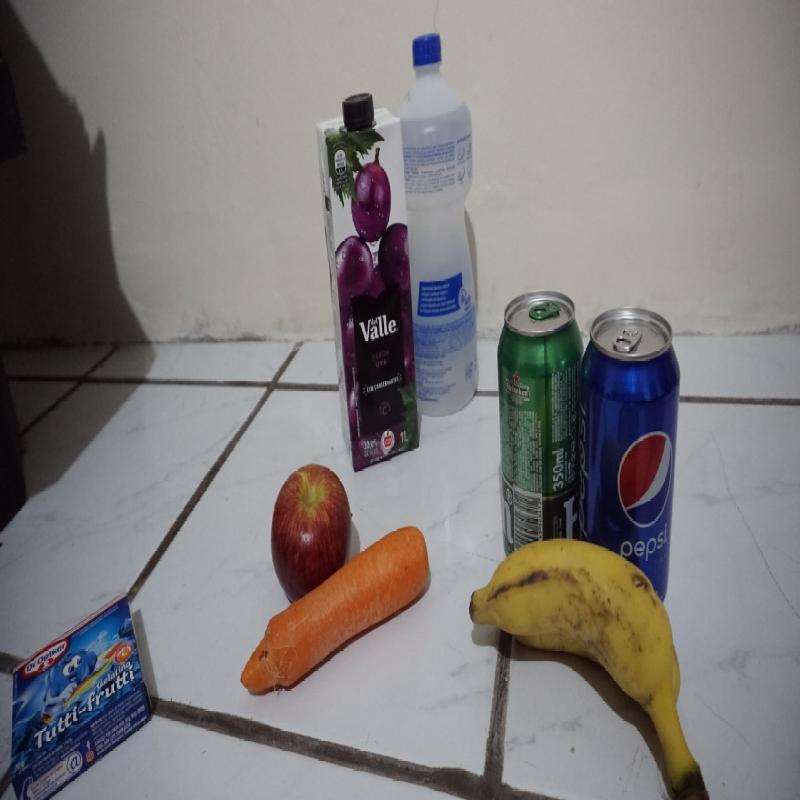Alcohol Bottle: (400, 34, 480, 420)
Apple: (270, 462, 352, 608)
Banana: (469, 538, 706, 796)
Beer can: (495, 288, 584, 580)
Carrot: (241, 525, 429, 698)
Gelatine: (10, 590, 151, 799)
Soda can: (582, 307, 681, 626)
